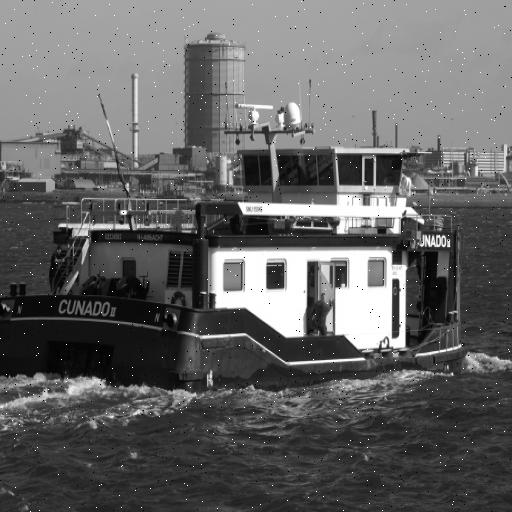tugboat: (1, 100, 473, 403)
